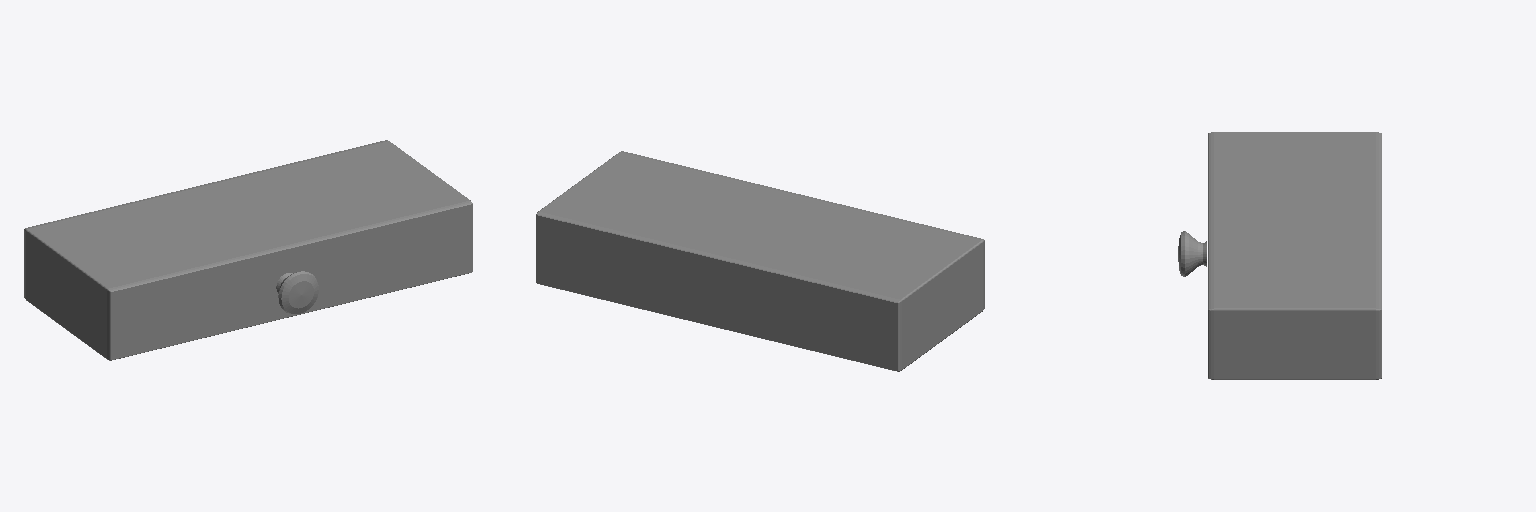
The model's file is BuroCajon.obj.
3 renders of one model, left to right at view 1: azimuth 30°, elevation 25°; view 2: azimuth 150°, elevation 25°; view 3: azimuth 270°, elevation 25°, orthographic.
Parts seen in each view (by area): view 1: Cajon; view 2: Cajon; view 3: Cajon.
Part boxes in pixels (x1,y1,x2,y2): Cajon: (24,140,472,360); Cajon: (536,151,984,371); Cajon: (1178,132,1381,379).
Bounding box in the file's own units: 0.7265 × 0.136 × 0.3522.